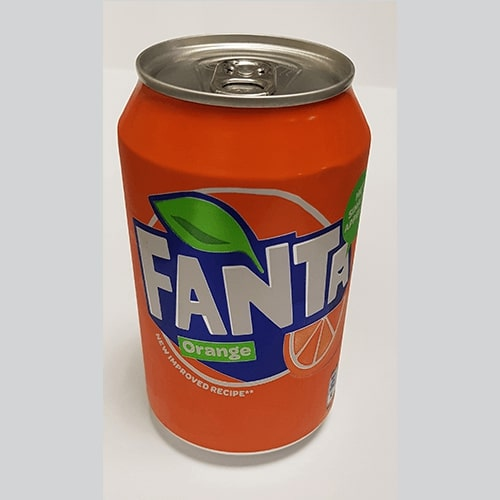metal: (116, 33, 373, 456)
